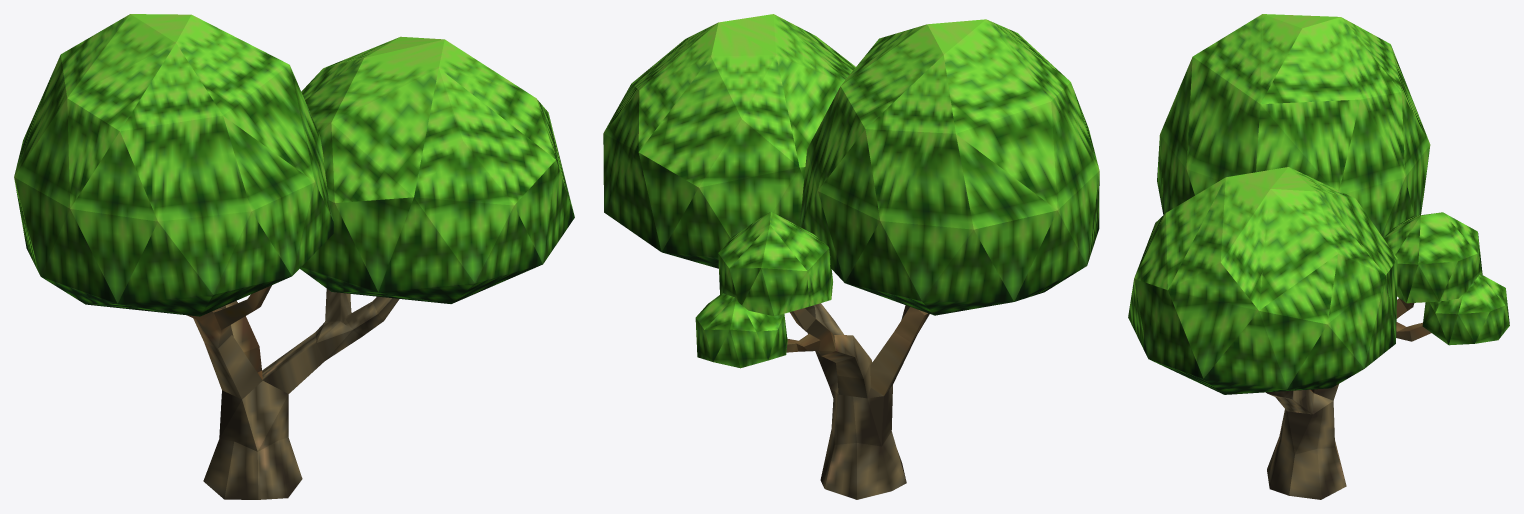
Rendered from Poly_Tree_02_C.obj.
The picture shows the model from 3 angles, left to right: view 1: azimuth 30°, elevation 25°; view 2: azimuth 150°, elevation 25°; view 3: azimuth 270°, elevation 25°; orthographic projection. The views are drawn at different scales.
Visible parts, largest first — view 1: Icosphere.001_Icosphere.007, Icosphere.002_Icosphere.001, Plane.001; view 2: Icosphere.001_Icosphere.007, Icosphere.002_Icosphere.001, Plane.001, Icosphere.005, Icosphere.006; view 3: Icosphere.002_Icosphere.001, Icosphere.001_Icosphere.007, Plane.001, Icosphere.005, Icosphere.006.
Boxes of the visible parts, x1,y1,x2,y2 form: Icosphere.001_Icosphere.007: (14,14,333,316); Icosphere.002_Icosphere.001: (300,36,574,303); Plane.001: (187,285,399,499); Icosphere.001_Icosphere.007: (799,19,1099,315); Icosphere.002_Icosphere.001: (603,14,855,268); Plane.001: (786,303,929,499); Icosphere.005: (718,211,832,316); Icosphere.006: (695,293,787,368); Icosphere.002_Icosphere.001: (1128,167,1397,394); Icosphere.001_Icosphere.007: (1157,14,1430,237); Plane.001: (1266,298,1431,499); Icosphere.005: (1383,212,1482,303); Icosphere.006: (1422,274,1509,345).
Size of the model in its own units: 3.91 by 3.74 by 3.02.
Materials: 1 (1 with a texture image).
